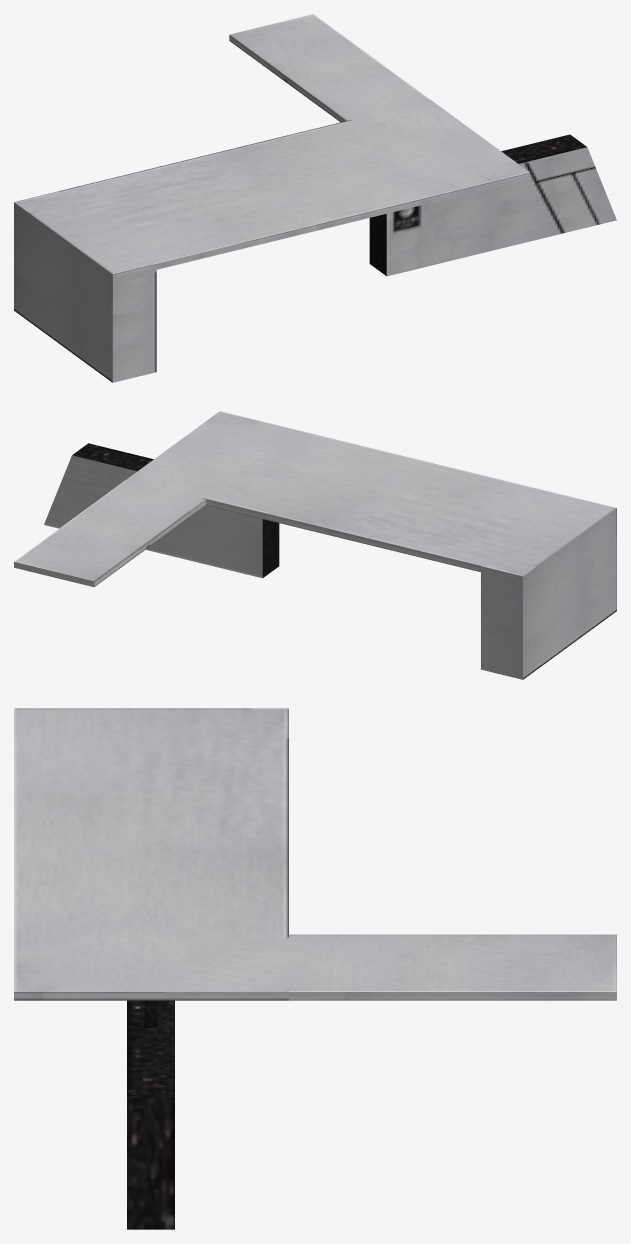
File: gate_02.fbx
The picture shows the model from 3 angles, top to bottom: view 1: azimuth 30°, elevation 25°; view 2: azimuth 150°, elevation 25°; view 3: azimuth 270°, elevation 25°; orthographic projection. The views are drawn at different scales.
Parts seen in each view (by area): view 1: gate_02; view 2: gate_02; view 3: gate_02.
Part boxes in pixels (left/top/right/bottom): gate_02: left=14, top=14, right=616, bottom=382; gate_02: left=14, top=411, right=616, bottom=679; gate_02: left=14, top=708, right=616, bottom=1229.
Bounding box in the file's own units: 15941 × 3033 × 10974.
Materials: 1 (1 with a texture image).
